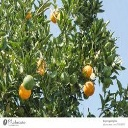orange: (18, 82, 32, 101), (82, 80, 96, 99), (81, 64, 94, 78)
